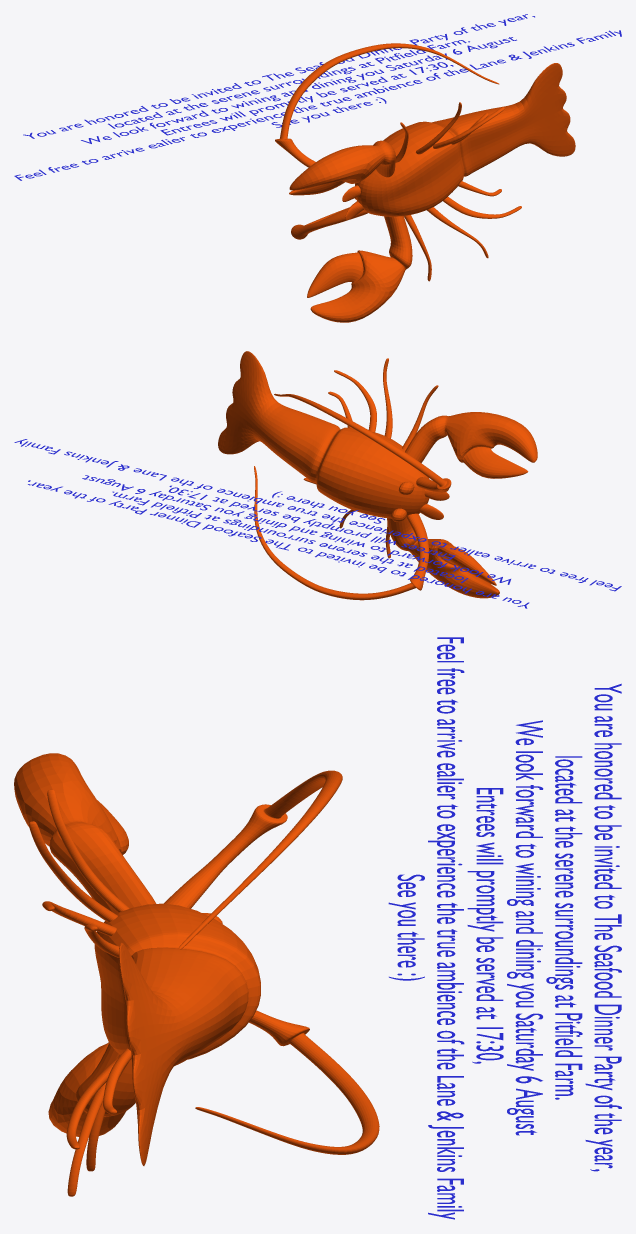
The model's file is invites.glb.
3 renders of one model, top to bottom at view 1: azimuth 30°, elevation 25°; view 2: azimuth 150°, elevation 25°; view 3: azimuth 270°, elevation 25°, orthographic. The views are drawn at different scales.
Parts seen in each view (by area): view 1: Lobster-onepiece, Text.001; view 2: Lobster-onepiece, Text.001; view 3: Lobster-onepiece, Text.001.
Boxes of the visible parts, left/top/right/bottom form: Lobster-onepiece: left=275, top=43, right=575, bottom=322; Text.001: left=14, top=14, right=621, bottom=180; Lobster-onepiece: left=218, top=351, right=537, bottom=600; Text.001: left=14, top=439, right=621, bottom=608; Lobster-onepiece: left=14, top=753, right=379, bottom=1196; Text.001: left=388, top=637, right=621, bottom=1219.
Bounding box in the file's own units: 82.72 × 27.4 × 36.5.
